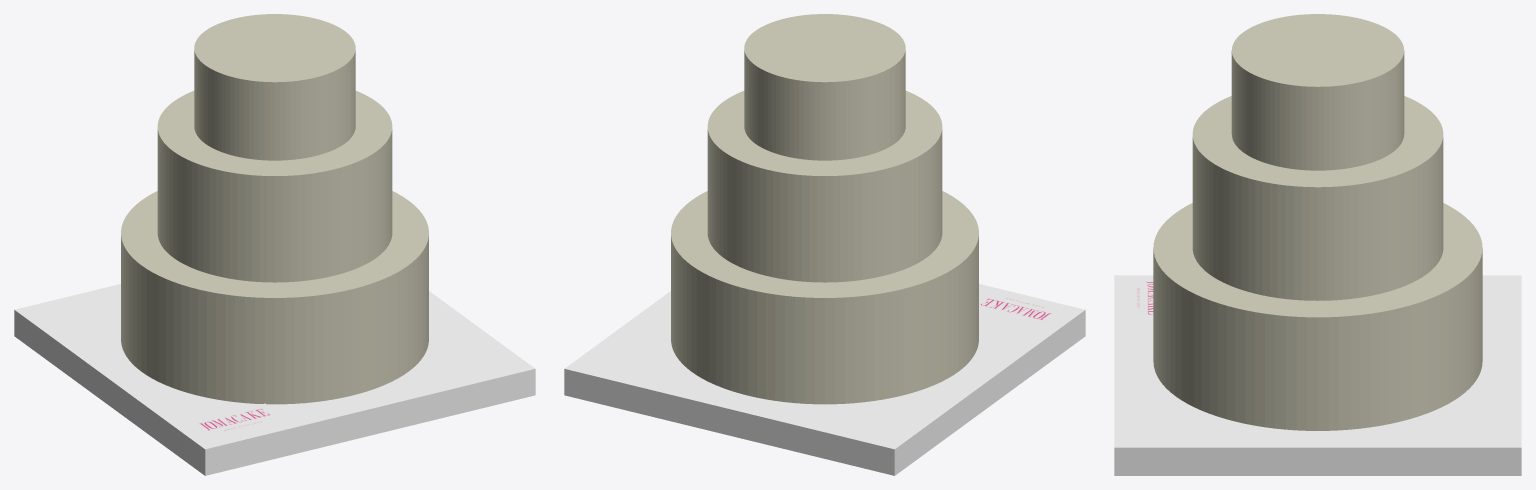
The model's file is cake_tier3_8-6-4_layers2_v45.glb.
The picture shows the model from 3 angles, left to right: view 1: azimuth 30°, elevation 25°; view 2: azimuth 150°, elevation 25°; view 3: azimuth 270°, elevation 25°; orthographic projection. The views are drawn at different scales.
Parts seen in each view (by area): view 1: Tier0, Board, Tier1, Tier2, Logo; view 2: Tier0, Board, Tier1, Tier2, Logo; view 3: Tier0, Tier1, Board, Tier2, Logo.
Part boxes in pixels (x1=…): Tier0: x1=121, y1=191, x2=428, y2=404; Board: x1=14, y1=284, x2=535, y2=475; Tier1: x1=157, y1=91, x2=392, y2=282; Tier2: x1=194, y1=14, x2=355, y2=160; Logo: x1=186, y1=403, x2=288, y2=439; Tier0: x1=671, y1=191, x2=978, y2=404; Board: x1=564, y1=284, x2=1085, y2=475; Tier1: x1=707, y1=91, x2=942, y2=282; Tier2: x1=744, y1=14, x2=905, y2=160; Logo: x1=979, y1=289, x2=1069, y2=325; Tier0: x1=1153, y1=203, x2=1482, y2=430; Tier1: x1=1192, y1=96, x2=1443, y2=300; Board: x1=1114, y1=275, x2=1521, y2=475; Tier2: x1=1231, y1=14, x2=1404, y2=170; Logo: x1=1126, y1=277, x2=1153, y2=318.
Bounding box in the file's own units: 0.26 × 0.239 × 0.26.
